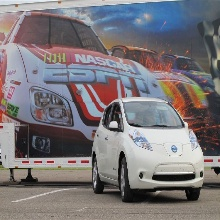no damage: (91, 98, 207, 204)
